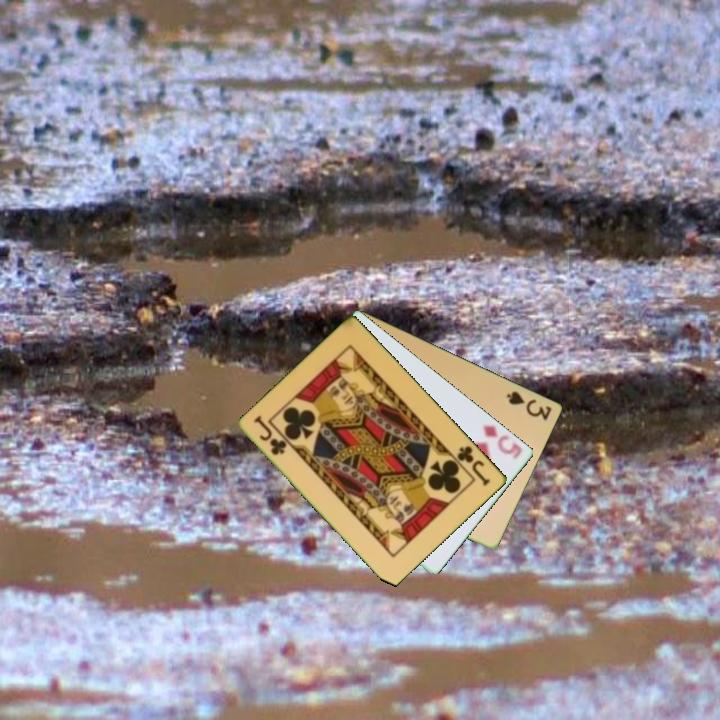3s: (503, 387, 555, 423)
5d: (480, 421, 526, 462)
Jc: (454, 442, 493, 489), (251, 412, 290, 458)
